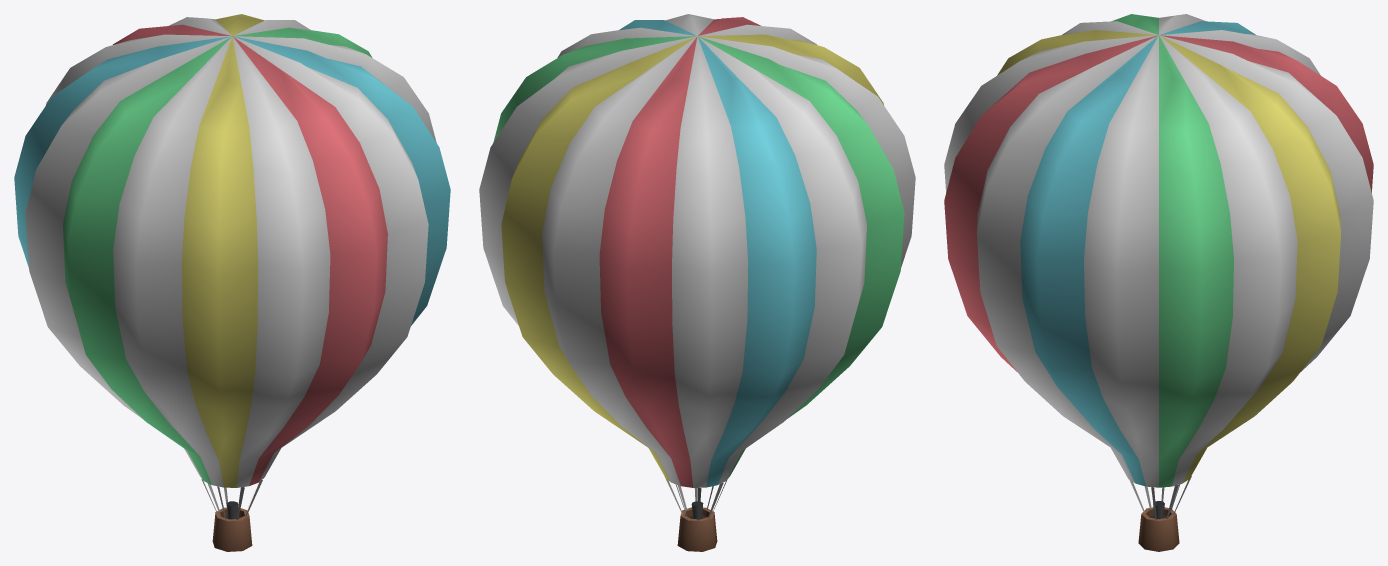
Rendered from vehicles-aircraft-hot-air-balloon_v9.fbx.
3 views of the same model, side by side, from view 1: azimuth 30°, elevation 25°; view 2: azimuth 150°, elevation 25°; view 3: azimuth 270°, elevation 25° (orthographic).
Parts seen in each view (by area): view 1: Hot Air Balloon_v9; view 2: Hot Air Balloon_v9; view 3: Hot Air Balloon_v9.
Part boxes in pixels (bbox=[...]): Hot Air Balloon_v9: bbox=[14, 14, 450, 551]; Hot Air Balloon_v9: bbox=[479, 14, 915, 551]; Hot Air Balloon_v9: bbox=[944, 14, 1373, 551].
Bounding box in the file's own units: 18.94 × 25 × 18.94.
